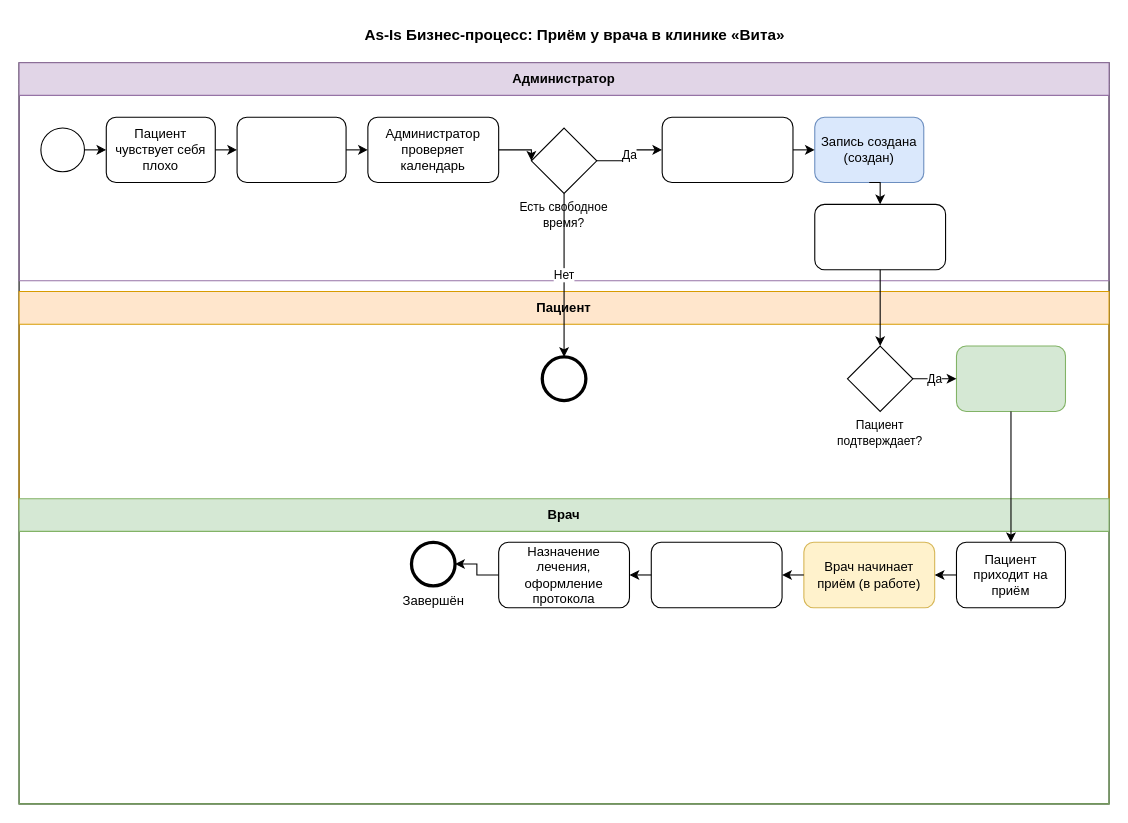
This 1128x823 diagram has some shape labels left out. The box of each missing label's shape, as (x1, y1, x2, y2) in pixels:
Запись подтверждена: (955, 345, 1065, 411)
Звонок в клинику: (236, 116, 346, 183)
Звонок за день для подтверждения: (814, 203, 946, 270)
Осмотр, жалобы, постановка диагноза: (650, 541, 782, 608)
Создание записи в календаре: (661, 116, 793, 183)
